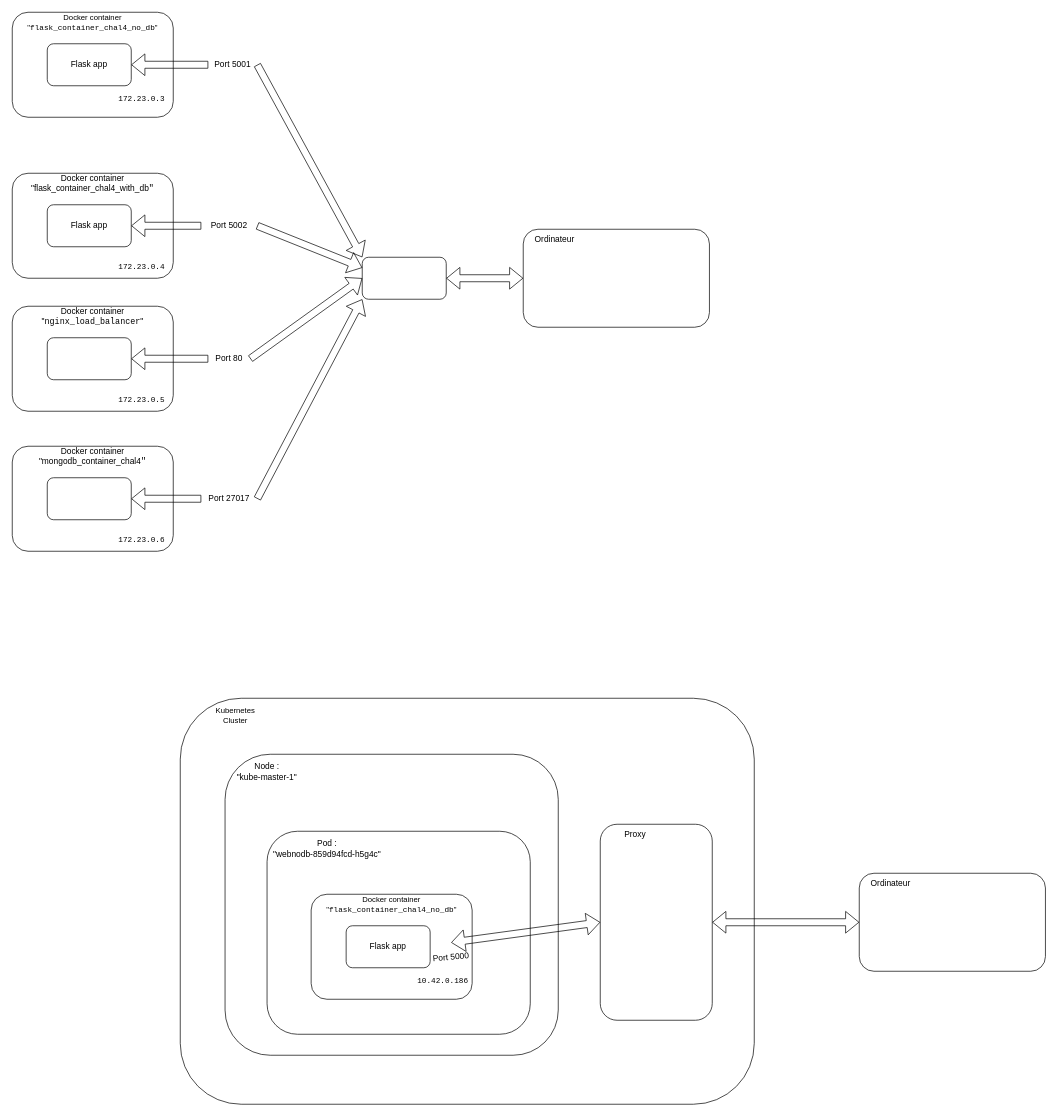
This 1058x1117 diagram has some shape labels left out. Each missing label, with the centre of its shape:
"Docker Network" goes at (x=404, y=278).
"MongoDB database" goes at (x=89, y=498).
"nginx load balancer" goes at (x=89, y=358).
